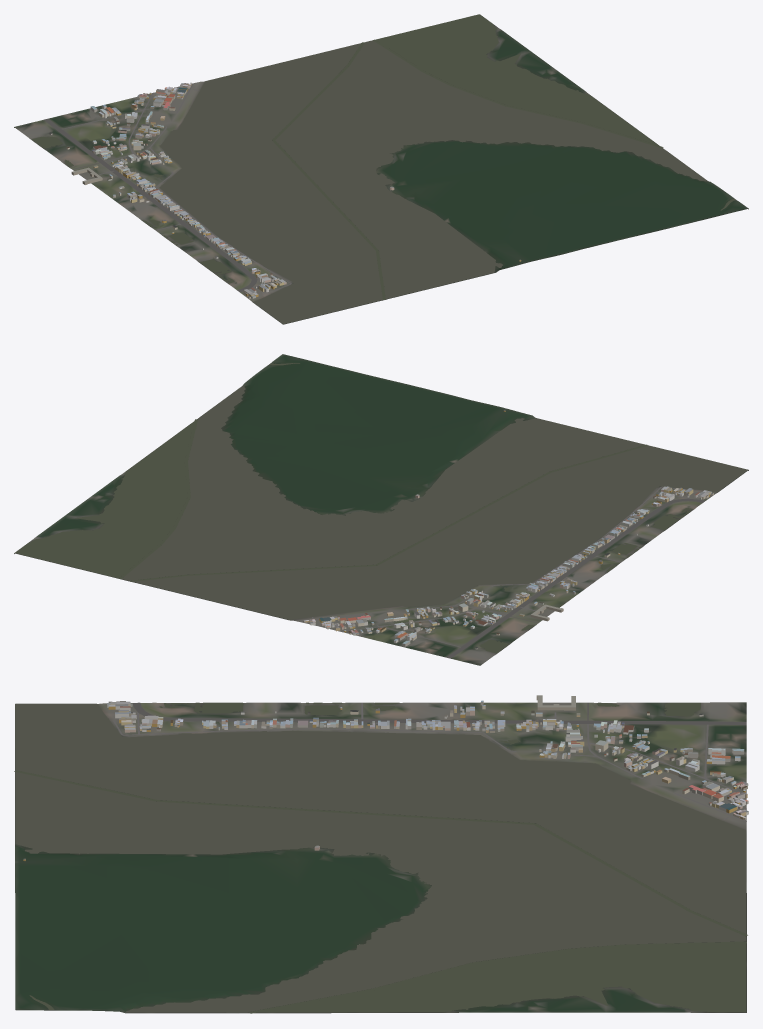
The picture shows the model from 3 angles, top to bottom: view 1: azimuth 30°, elevation 25°; view 2: azimuth 150°, elevation 25°; view 3: azimuth 270°, elevation 25°; orthographic projection. The views are drawn at different scales.
Parts seen in each view (by area): view 1: water, ground, buildings, roads; view 2: water, ground, buildings, roads; view 3: water, ground, buildings, roads.
Boxes of the visible parts, <box> form: water: <box>31,14,735,324</box>; ground: <box>14,14,748,324</box>; buildings: <box>49,82,521,298</box>; roads: <box>44,83,291,292</box>; water: <box>15,363,747,653</box>; ground: <box>14,354,748,665</box>; buildings: <box>303,410,713,649</box>; roads: <box>301,486,704,658</box>; water: <box>14,702,747,1013</box>; ground: <box>15,702,746,1013</box>; buildings: <box>23,695,748,860</box>; roads: <box>113,702,746,821</box>.
Bounding box in the file's own units: 1424 × 18.69 × 1407.
